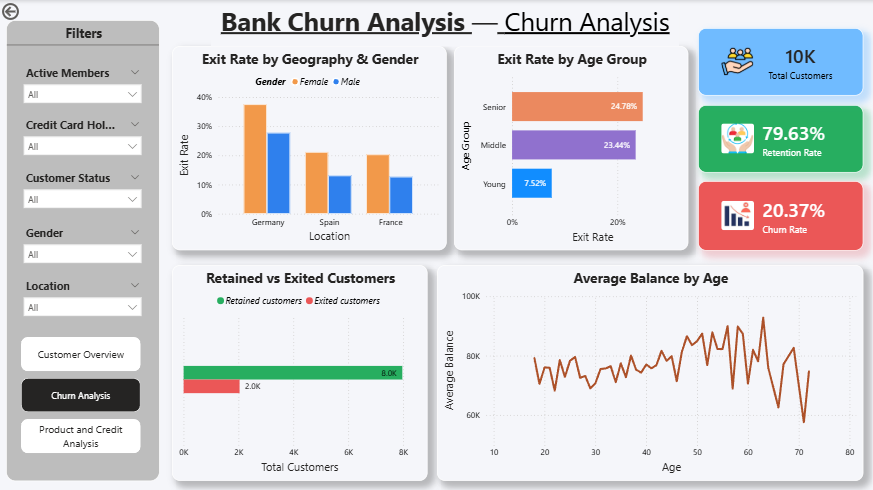

What the dashboard file says about the page in this screenshot:
{"tool":"powerbi","page":{"name":"Churn Analysis","canvas":[1280,720],"ordinal":1},"visuals":[{"type":"clusteredBarChart","title":"Retained vs Exited Customers","fields":{"Y":["Bank_Churn.Retained_customers","Bank_Churn.Exited_customers"]},"box":[252.6,388.2,374.3,315.8],"z":0},{"type":"clusteredColumnChart","title":"Exit Rate by Geography & Gender","fields":{"Category":["Geography.GeographyLocation"],"Series":["Gender.GenderCategory"],"Y":["Bank_Churn.Exited Members"]},"box":[252.6,67.8,402,298.8],"z":1000},{"type":"barChart","title":"Exit Rate by Age Group","fields":{"Category":["Bank_Churn.Customer_age_group"],"Y":["Bank_Churn.Exited Members"]},"box":[665.4,67.8,343.5,298.8],"z":2000},{"type":"lineChart","title":"Average Balance by Age","fields":{"Y":["Bank_Churn.Avg Balance by Age"],"Category":["Bank_Churn.Age"]},"box":[640.8,388.2,623.8,315.8],"z":3000},{"type":"textbox","title":"Filters","box":[10.2,29.3,225.4,674.6],"z":4000},{"type":"slicer","fields":{"Values":["ActiveCustomer.ActiveCategory"]},"box":[26.3,90.7,191.7,62.9],"z":5000},{"type":"slicer","fields":{"Values":["Credit_card.Category"]},"box":[26.3,166.8,191.7,62.9],"z":6000},{"type":"slicer","fields":{"Values":["ExitCustomer.ExitCategory"]},"box":[26.3,244.4,191.7,62.9],"z":7000},{"type":"slicer","fields":{"Values":["Gender.GenderCategory"]},"box":[26.3,324.9,191.7,62.9],"z":8000},{"type":"slicer","fields":{"Values":["Geography.GeographyLocation"]},"box":[26.3,402.4,191.7,62.9],"z":9000},{"type":"pageNavigator","box":[32.2,493.2,175.6,171.2],"z":10000},{"type":"textbox","box":[309.6,0,685.4,67.8],"z":11000},{"type":"cardVisual","fields":{"Data":["Bank_Churn.% of Retention"]},"box":[1022.8,154,241.8,98.6],"z":12000},{"type":"cardVisual","fields":{"Data":["Bank_Churn.Churn Rate"]},"box":[1022.8,264.9,241.8,101.7],"z":13000},{"type":"cardVisual","fields":{"Data":["Bank_Churn.Total_Customers"]},"box":[1022.8,41.6,241.8,98.6],"z":14000},{"type":"actionButton","box":[0,0,99.5,33.7],"z":14001}]}

Visuals, with their boxes in screenshot pixels (x1, y1, x2, y2), scaled from the page's 1280x720 canvas onto the 873x490 screenshot:
"Retained vs Exited Customers" clusteredBarChart: {"x1": 172, "y1": 264, "x2": 428, "y2": 479}
"Exit Rate by Geography & Gender" clusteredColumnChart: {"x1": 172, "y1": 46, "x2": 446, "y2": 249}
"Exit Rate by Age Group" barChart: {"x1": 454, "y1": 46, "x2": 688, "y2": 249}
"Average Balance by Age" lineChart: {"x1": 437, "y1": 264, "x2": 862, "y2": 479}
"Filters" textbox: {"x1": 7, "y1": 20, "x2": 161, "y2": 479}
slicer - ActiveCustomer.ActiveCategory: {"x1": 18, "y1": 62, "x2": 149, "y2": 105}
slicer - Credit_card.Category: {"x1": 18, "y1": 114, "x2": 149, "y2": 156}
slicer - ExitCustomer.ExitCategory: {"x1": 18, "y1": 166, "x2": 149, "y2": 209}
slicer - Gender.GenderCategory: {"x1": 18, "y1": 221, "x2": 149, "y2": 264}
slicer - Geography.GeographyLocation: {"x1": 18, "y1": 274, "x2": 149, "y2": 317}
pageNavigator: {"x1": 22, "y1": 336, "x2": 142, "y2": 452}
textbox: {"x1": 211, "y1": 0, "x2": 679, "y2": 46}
cardVisual - Bank_Churn.% of Retention: {"x1": 698, "y1": 105, "x2": 862, "y2": 172}
cardVisual - Bank_Churn.Churn Rate: {"x1": 698, "y1": 180, "x2": 862, "y2": 249}
cardVisual - Bank_Churn.Total_Customers: {"x1": 698, "y1": 28, "x2": 862, "y2": 95}
actionButton: {"x1": 0, "y1": 0, "x2": 68, "y2": 23}
